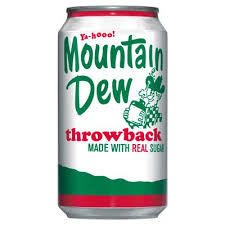can: (55, 4, 170, 220)
